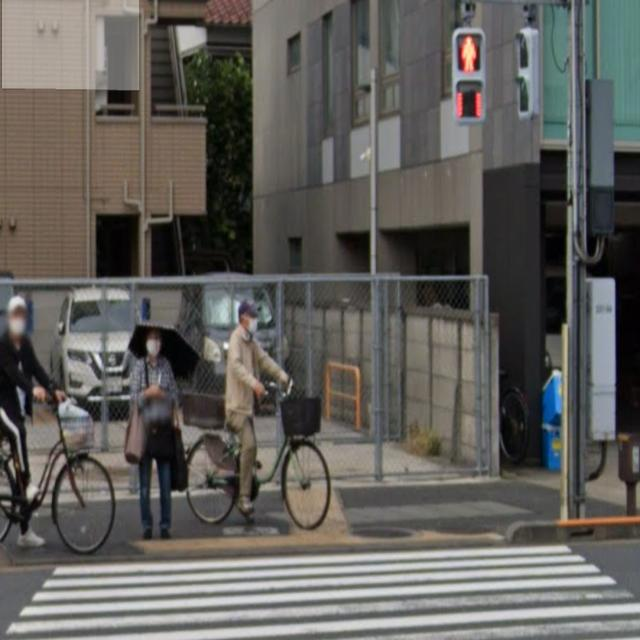traffic-light: (453, 29, 489, 127)
